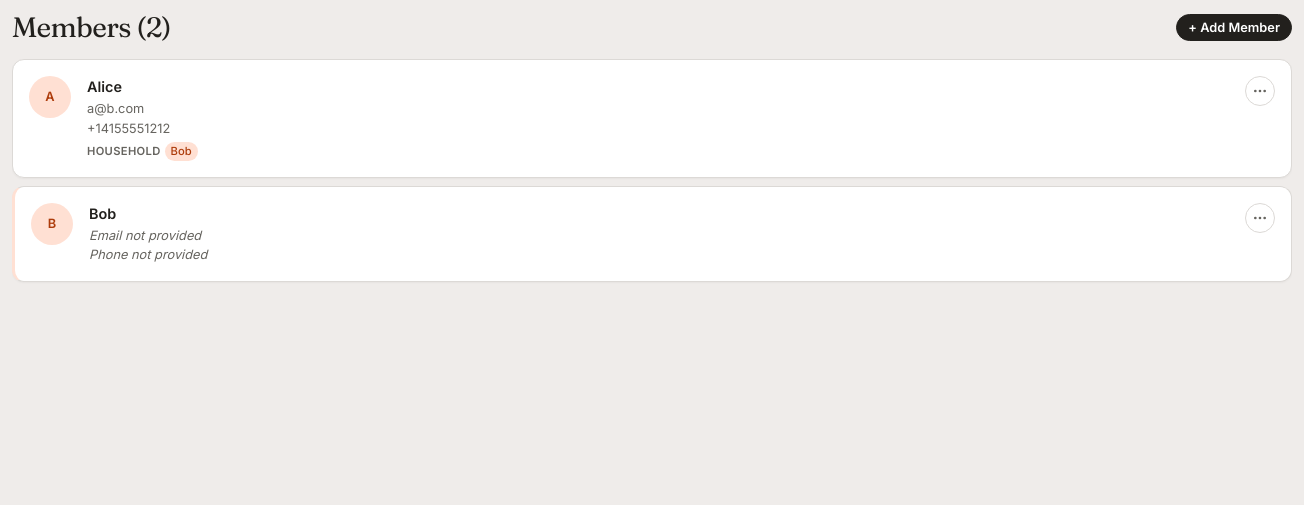
MembersTab › opens composer on Add Member click
Click the button "+ Add Member".
click(1234, 27)  # box [1176, 14, 1292, 41]
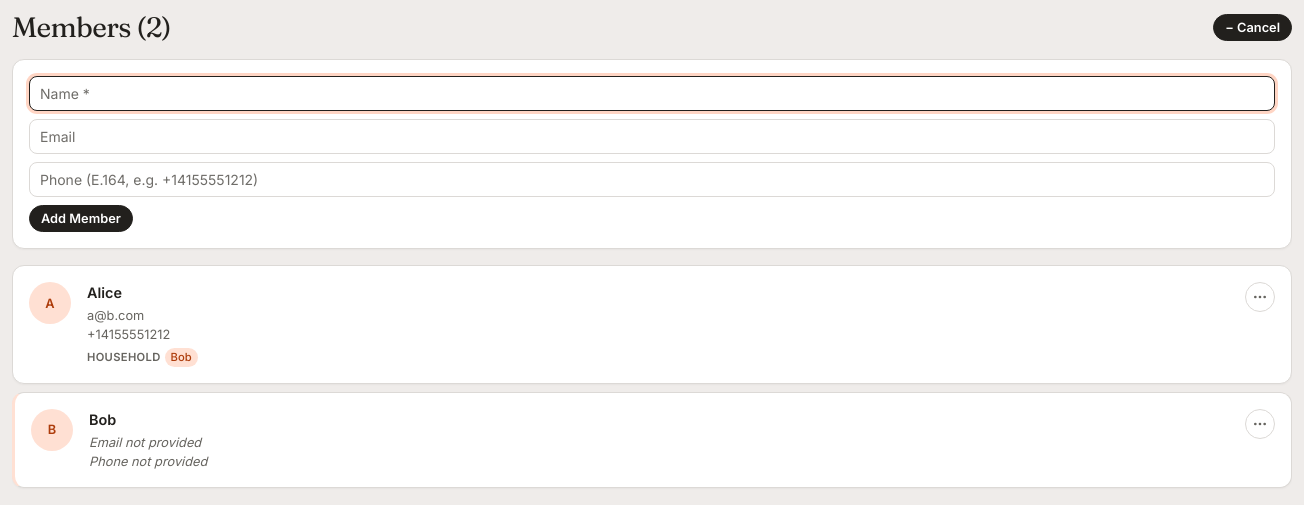
Expected: the field with placeholder "Name *" is shown, [29, 76, 1275, 111]
Expected: the field with placeholder "Email" is shown, [29, 119, 1275, 154]
